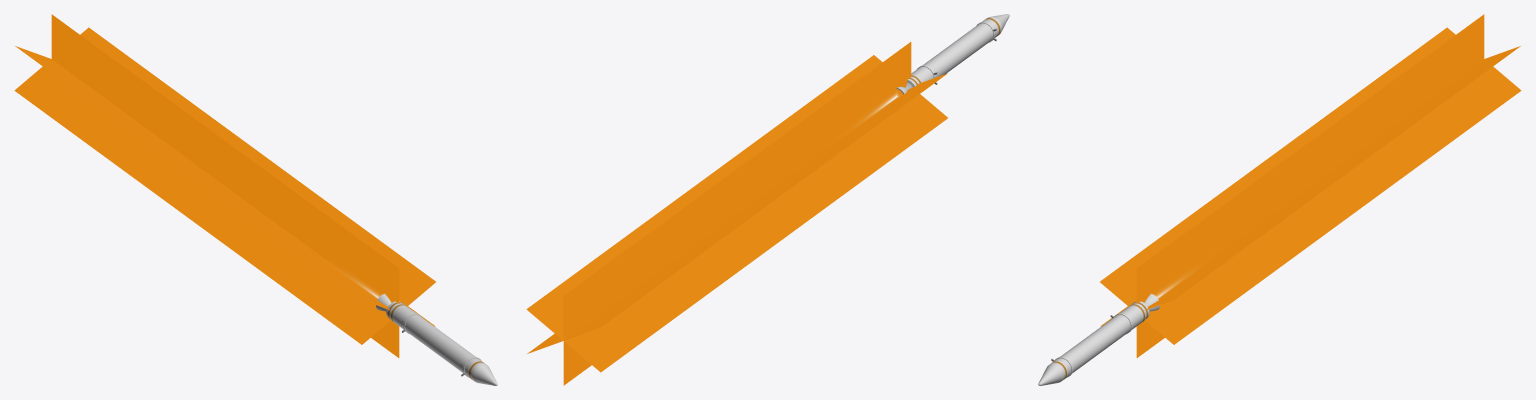
The model's file is MissileTest.glb.
The picture shows the model from 3 angles, left to right: view 1: azimuth 30°, elevation 25°; view 2: azimuth 150°, elevation 25°; view 3: azimuth 330°, elevation 25°; orthographic projection.
Visible parts, largest first — view 1: SRB_Flame2, SRB2; view 2: SRB_Flame2, SRB2; view 3: SRB_Flame2, SRB2.
Boxes of the visible parts, left/top/right/bottom form: SRB_Flame2: left=14, top=14, right=435, bottom=357; SRB2: left=376, top=293, right=497, bottom=385; SRB_Flame2: left=526, top=42, right=947, bottom=385; SRB2: left=896, top=14, right=1009, bottom=94; SRB_Flame2: left=1100, top=14, right=1521, bottom=357; SRB2: left=1038, top=293, right=1159, bottom=385.
Bounding box in the file's own units: 7.73 × 8.93 × 80.06.
2 materials, 2 textured.
